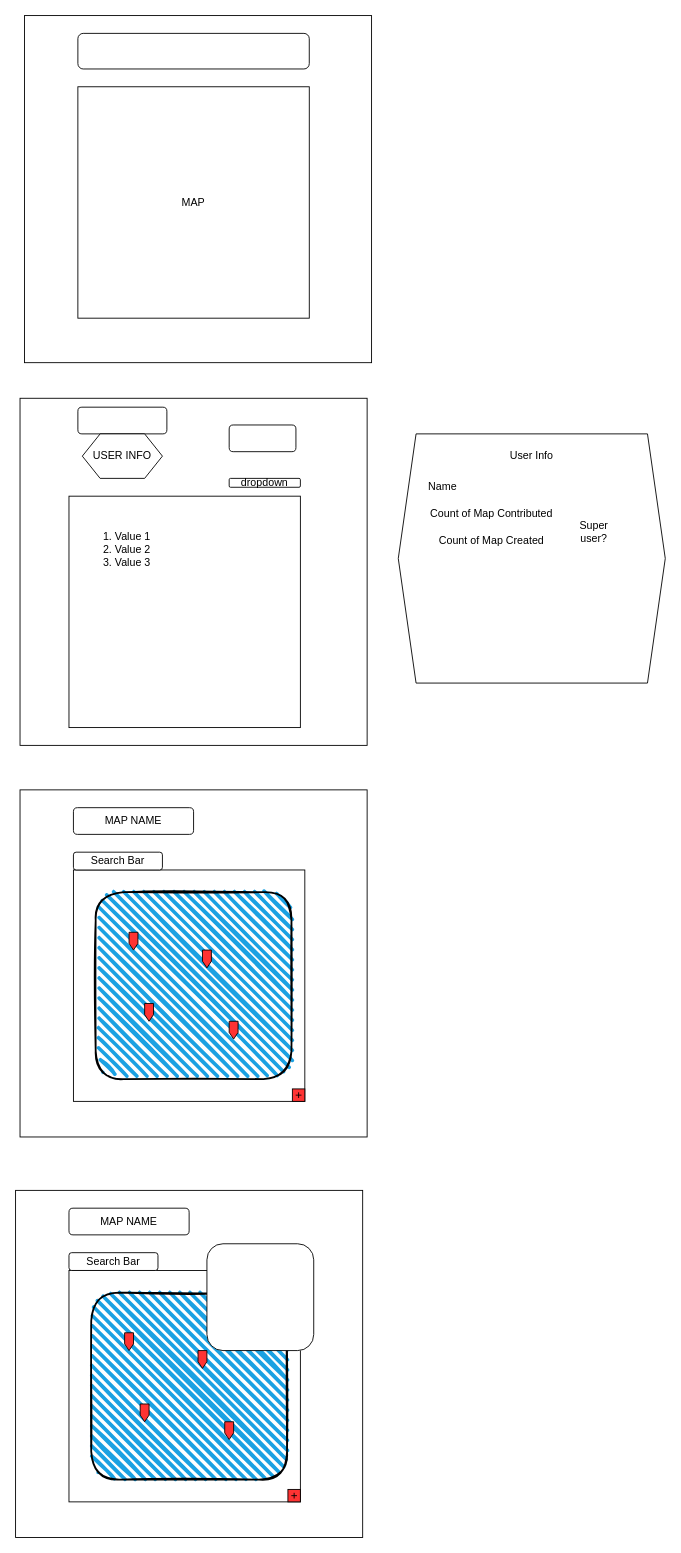
Image size: 681x1553. Some labels were removed from this diagram. Each missing label, with the box of its shape:
Create new map: (228, 424, 296, 452)
Point Info Title Description Image: (206, 1243, 314, 1351)
SITE NAME: (77, 32, 309, 69)
USER NAME: (77, 406, 167, 434)
